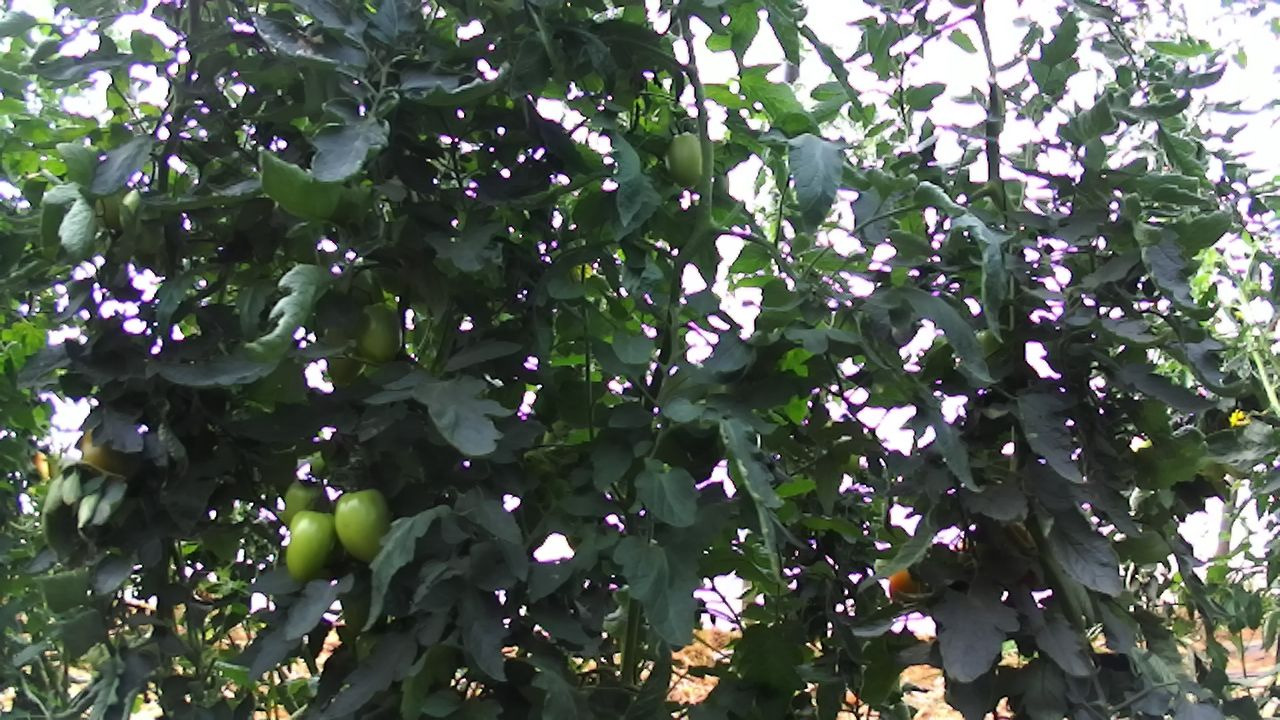tomato: (329, 484, 395, 564), (280, 506, 337, 585), (353, 296, 410, 368)
